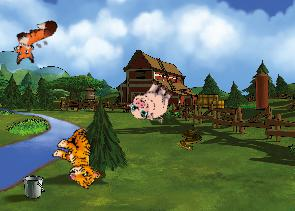fox: (5, 17, 66, 68)
pig: (124, 74, 178, 129)
tiger: (45, 123, 115, 192)
